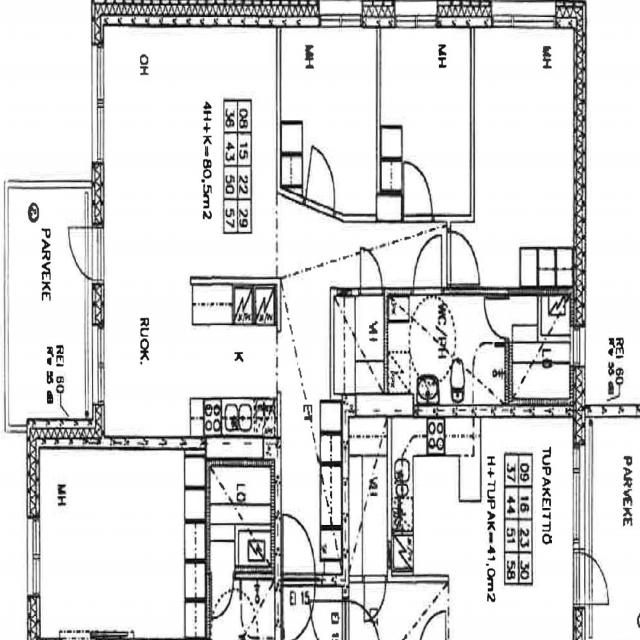door: (304, 148, 341, 217), (283, 516, 315, 586), (62, 227, 104, 280), (283, 573, 315, 640), (447, 231, 481, 284), (414, 236, 442, 294), (404, 165, 432, 222), (481, 298, 508, 338), (360, 248, 382, 294)
